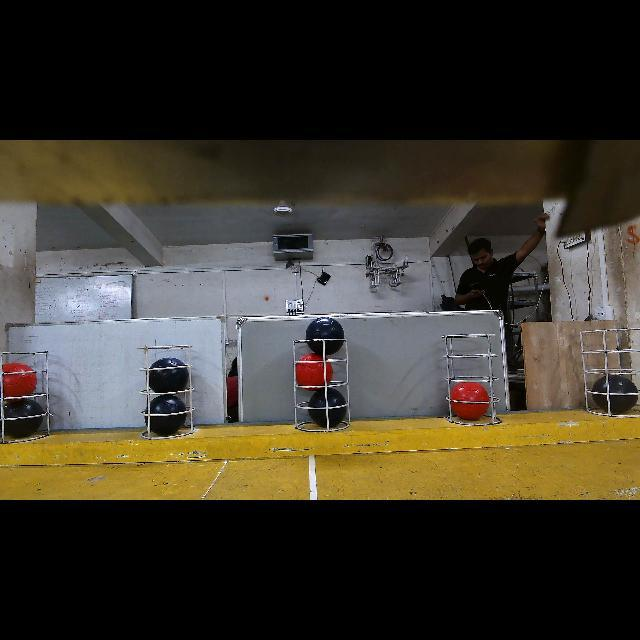P: (594, 374, 636, 412), (145, 395, 185, 433), (149, 357, 189, 393), (306, 317, 344, 354), (309, 388, 346, 426), (3, 401, 40, 439)
R: (449, 382, 490, 420), (3, 362, 38, 397), (296, 353, 333, 386)
S: (440, 332, 504, 426), (576, 328, 640, 419), (292, 338, 352, 434), (137, 344, 196, 440), (0, 347, 52, 443)
